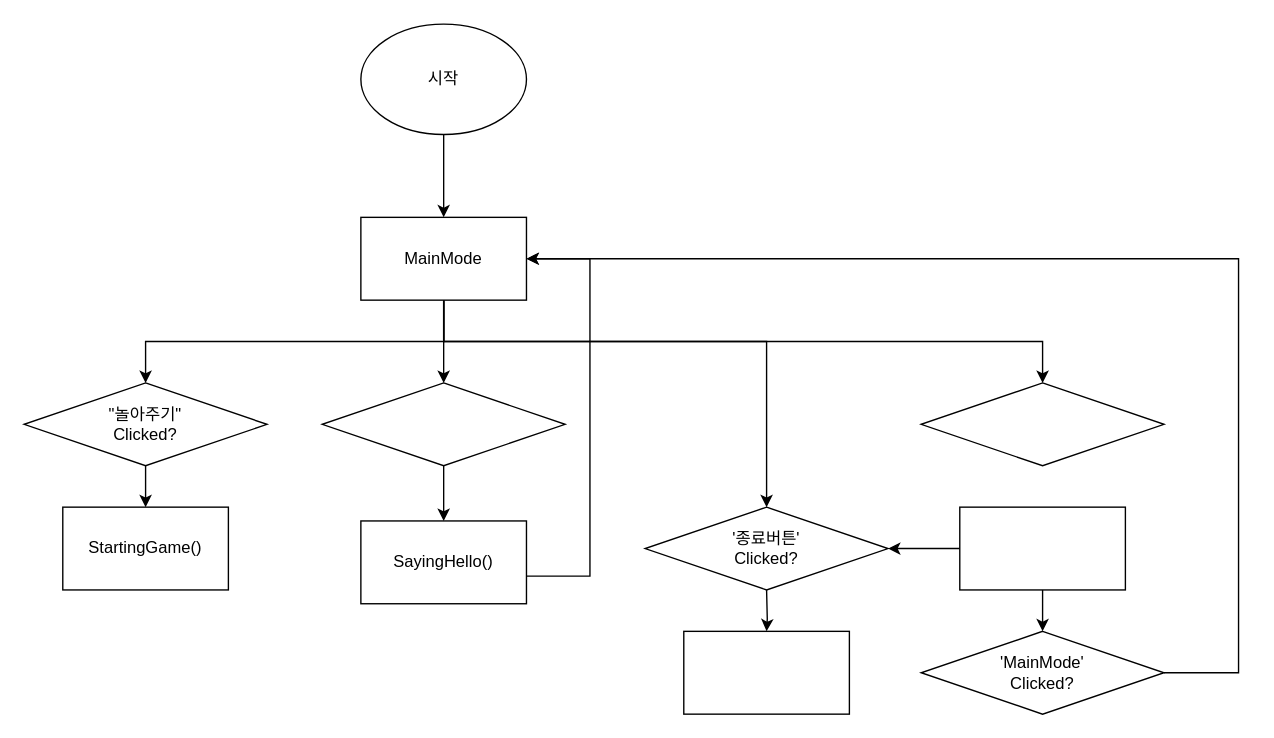
Some shapes in this 1274 by 738 pixel diagram are drawn without their labels. Each missing label, with the centre of its shape:
"인사하기" Clicked?: (443,424)
'LightMode' Clicked?: (1042,424)
Exit(): (765,672)
LightMode: (1041,548)
